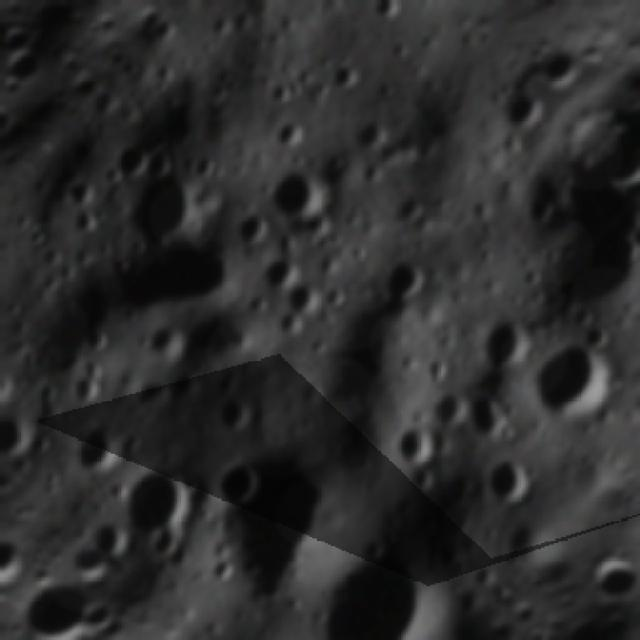crater: (168, 412, 372, 618), (98, 206, 253, 362), (284, 512, 470, 640), (95, 444, 212, 562), (103, 143, 220, 260), (515, 325, 631, 441), (255, 153, 338, 236), (368, 243, 446, 320), (467, 310, 541, 385), (472, 446, 546, 520), (59, 416, 132, 489), (200, 447, 271, 519), (488, 78, 557, 147), (452, 381, 520, 450), (382, 412, 447, 476), (98, 131, 160, 194), (134, 312, 194, 372), (509, 179, 568, 238), (418, 384, 476, 441), (133, 136, 189, 192), (137, 517, 192, 572), (290, 200, 345, 255), (317, 50, 371, 104), (262, 108, 315, 161), (344, 113, 396, 165), (208, 391, 260, 442), (180, 144, 231, 196), (127, 371, 178, 422), (53, 169, 104, 220), (254, 71, 304, 120), (56, 368, 104, 415), (560, 294, 608, 341), (265, 300, 312, 348), (280, 275, 328, 322), (383, 185, 431, 232), (194, 548, 241, 595), (0, 406, 34, 465), (614, 202, 640, 278), (0, 356, 28, 418), (404, 459, 445, 501), (362, 0, 411, 35), (314, 277, 355, 318), (578, 318, 618, 358), (46, 255, 86, 293), (61, 242, 98, 280), (73, 323, 110, 360), (32, 239, 68, 276), (239, 285, 275, 320)
